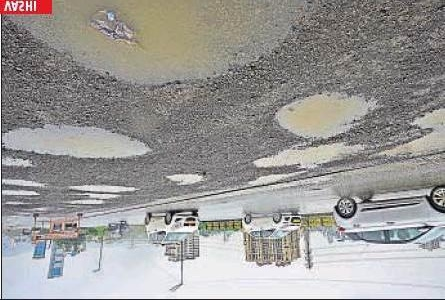pothole: (0, 0, 314, 90), (0, 122, 152, 163), (271, 91, 374, 140), (254, 141, 360, 173), (70, 183, 136, 195), (165, 172, 205, 188), (0, 188, 44, 199), (0, 179, 44, 189), (66, 199, 106, 207)
